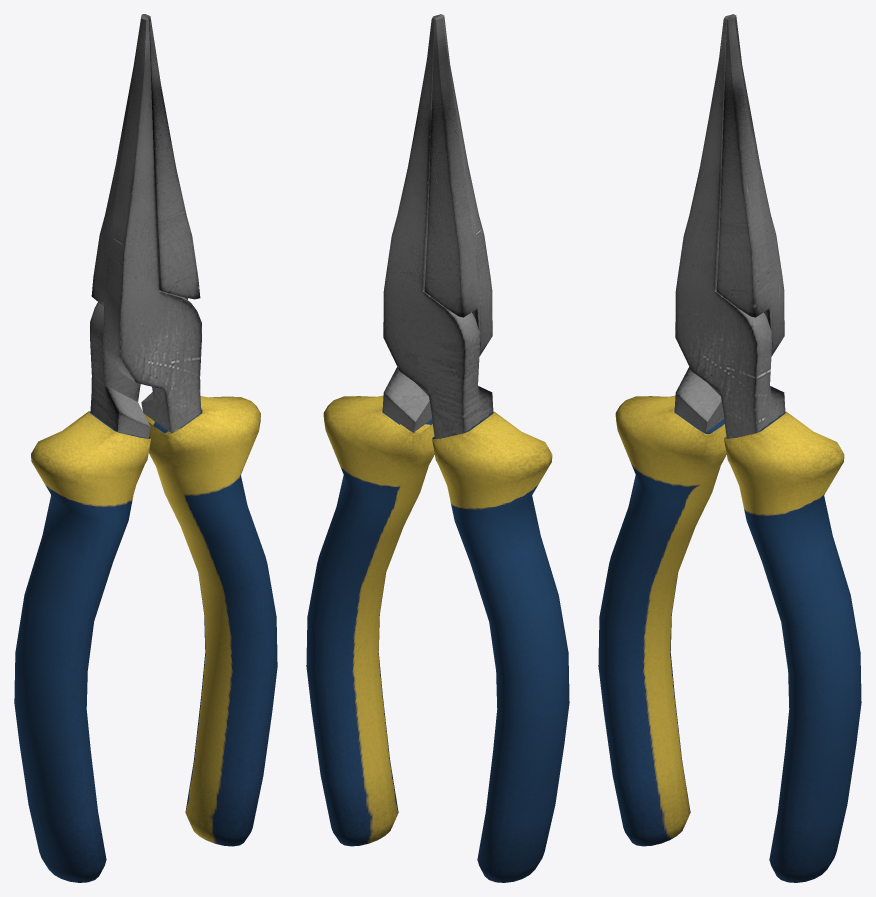
File: Pliers01_3.FBX
3 views of the same model, side by side, from view 1: azimuth 30°, elevation 25°; view 2: azimuth 150°, elevation 25°; view 3: azimuth 330°, elevation 25° (orthographic).
Parts seen in each view (by area): view 1: Pliers01_3_LOD0; view 2: Pliers01_3_LOD0; view 3: Pliers01_3_LOD0.
Part boxes in pixels (x1,y1,x2,y2): Pliers01_3_LOD0: (14, 14, 277, 882); Pliers01_3_LOD0: (306, 14, 569, 882); Pliers01_3_LOD0: (598, 14, 861, 882).
Size of what is drawn, in the model's own units: 4.51 by 14.64 by 1.4.
